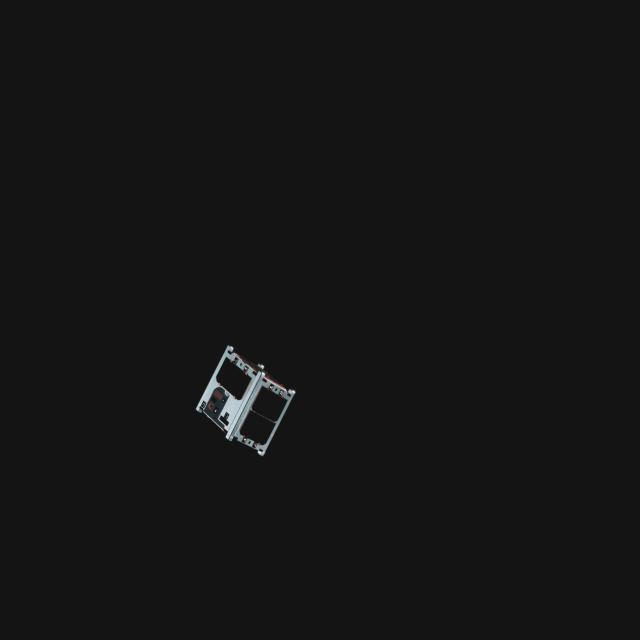medium_debris: (188, 339, 297, 461)
